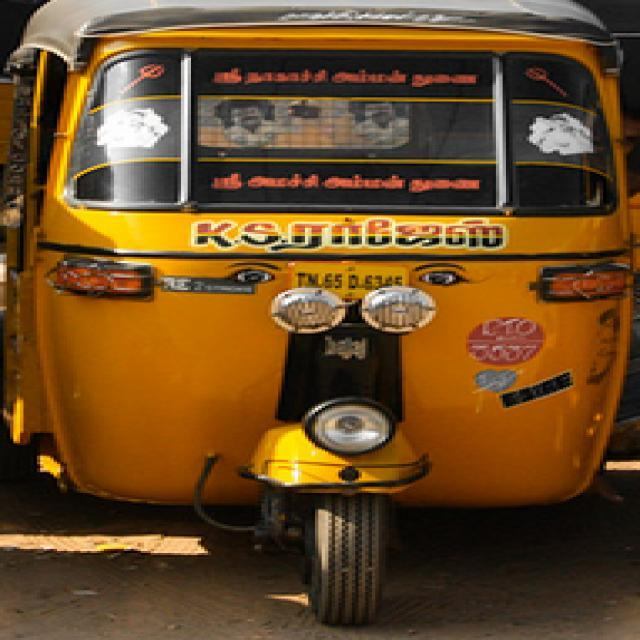auto_front: (12, 2, 640, 618)
